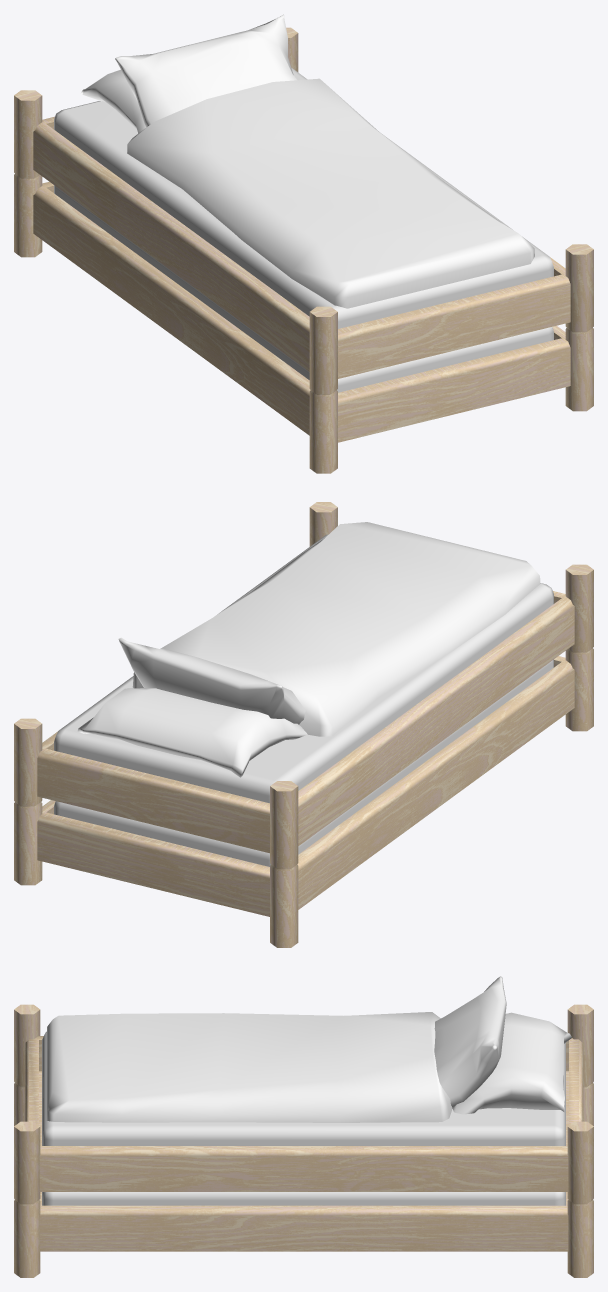
The model's file is bed_018.fbx.
3 renders of one model, top to bottom at view 1: azimuth 30°, elevation 25°; view 2: azimuth 150°, elevation 25°; view 3: azimuth 270°, elevation 25°, orthographic. The views are drawn at different scales.
Visible parts, largest first — view 1: bed_018; view 2: bed_018; view 3: bed_018.
Part boxes in pixels (x1,y1,x2,y2): bed_018: (14, 14, 593, 473); bed_018: (14, 502, 593, 947); bed_018: (14, 976, 593, 1277).
Size of the model in its own units: 123 by 238 by 93.2.
